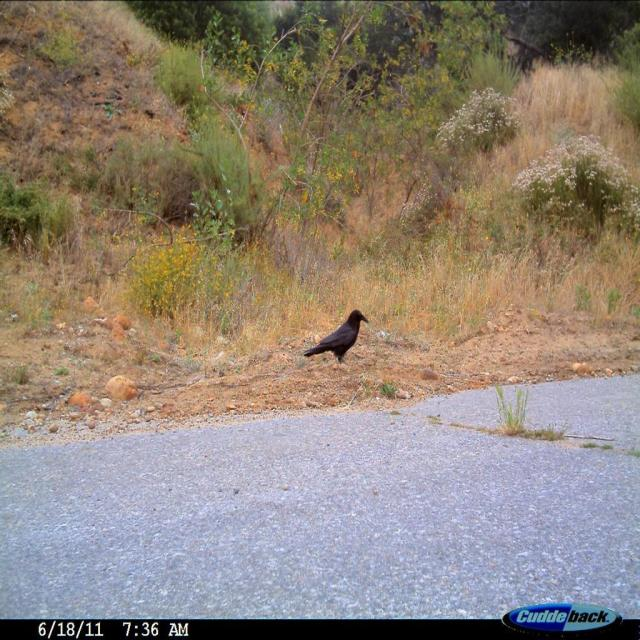bird: (302, 308, 373, 373)
